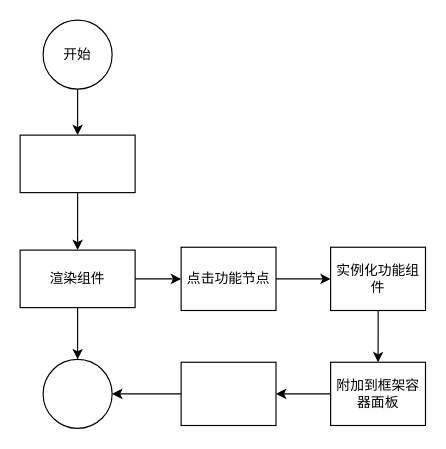
Image size: 446x449. Some labels were removed from this diagram. Each missing label, with the centre of its shape:
功能交互操作: point 228,393
结束: point 77,393
获取方案: point 77,163
